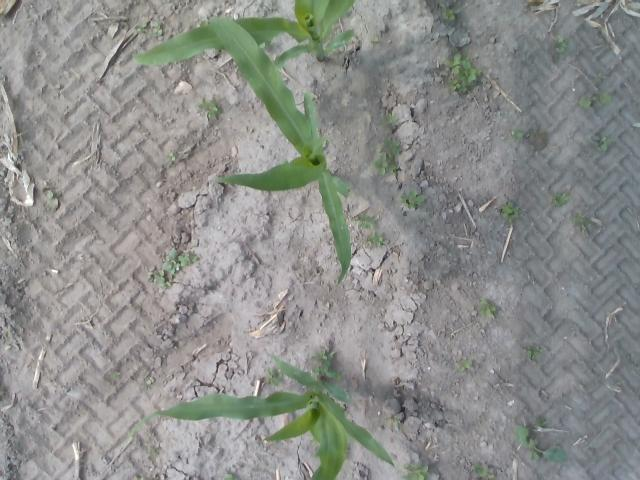Maize: (204, 15, 352, 284), (124, 353, 393, 480), (133, 0, 354, 72)
Weeds: (512, 424, 564, 463), (442, 54, 482, 92), (372, 138, 401, 177), (312, 350, 343, 383), (162, 248, 198, 274), (577, 92, 612, 110), (148, 265, 172, 290), (397, 462, 430, 480), (398, 189, 425, 209), (198, 98, 222, 120), (498, 201, 520, 224), (570, 212, 592, 234), (470, 462, 494, 480), (44, 187, 60, 212), (478, 298, 498, 318), (353, 213, 377, 229), (592, 134, 613, 152), (266, 367, 284, 387), (554, 34, 569, 57), (523, 343, 542, 361), (552, 190, 570, 208), (366, 230, 382, 248), (441, 5, 456, 22), (381, 112, 398, 126), (151, 20, 163, 38), (458, 358, 473, 372), (164, 151, 178, 164), (142, 376, 155, 390), (386, 414, 401, 426), (508, 130, 524, 140), (258, 38, 274, 48), (136, 18, 146, 32), (220, 473, 240, 480), (594, 72, 606, 82), (108, 370, 120, 379), (534, 417, 546, 426), (369, 36, 379, 44)
